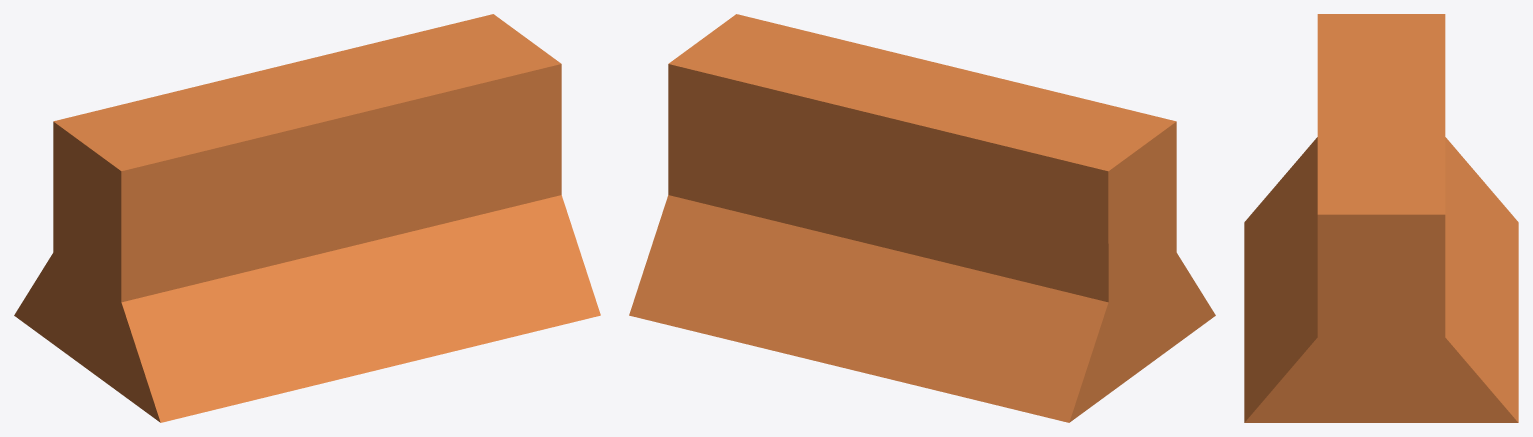
The model's file is FinalBarricade1.fbx.
The picture shows the model from 3 angles, left to right: view 1: azimuth 30°, elevation 25°; view 2: azimuth 150°, elevation 25°; view 3: azimuth 270°, elevation 25°; orthographic projection. The views are drawn at different scales.
Visible parts, largest first — view 1: Barricade_1_Scaled; view 2: Barricade_1_Scaled; view 3: Barricade_1_Scaled.
Boxes of the visible parts, bbox=[...] form: Barricade_1_Scaled: bbox=[14, 14, 600, 422]; Barricade_1_Scaled: bbox=[629, 14, 1215, 422]; Barricade_1_Scaled: bbox=[1244, 14, 1518, 422].
Size of the model in its own units: 100 by 48.39 by 57.73.
